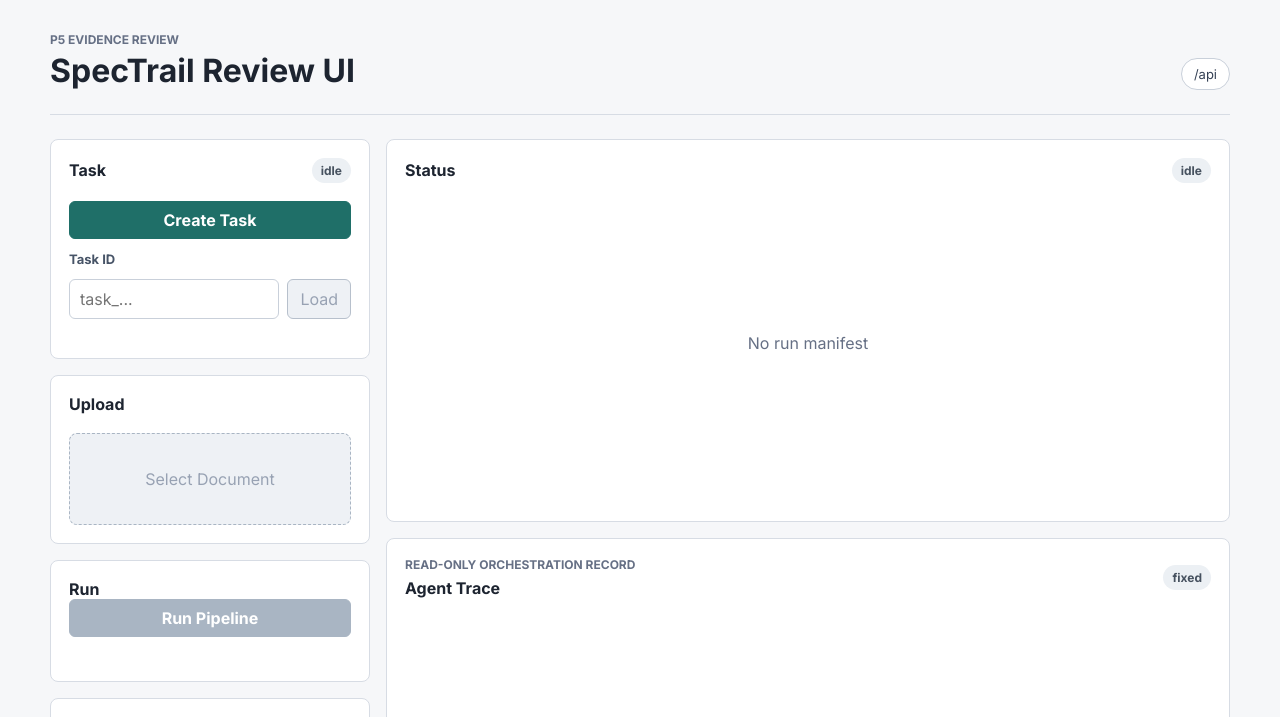
Test: App pipeline run reconciliation › reports a lost run response as a notice when the generation advances with identical Evidence
In the field labelled "Task ID": (174, 299) x1=69 y1=279 x2=279 y2=319, type "task-1"
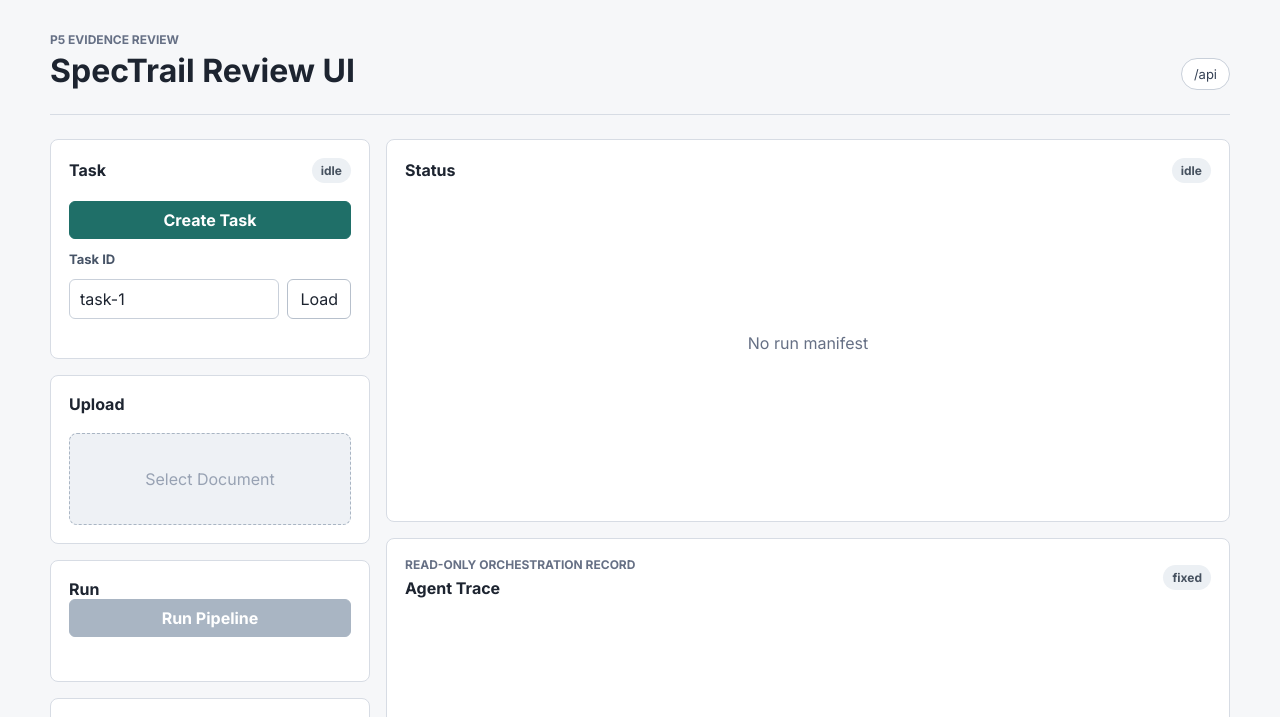
Click the button "Load": (319, 299) x1=287 y1=279 x2=351 y2=319
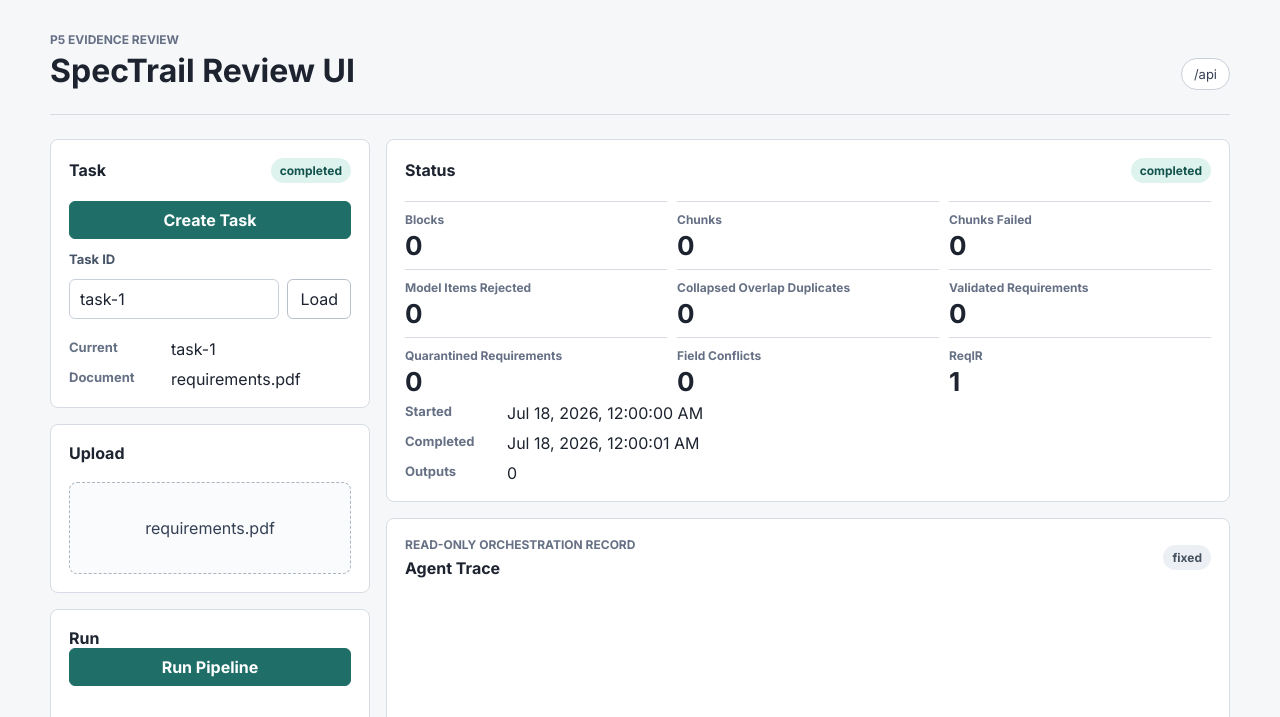
Click the button "Run Pipeline": (210, 667) x1=69 y1=648 x2=351 y2=686
(page scrolled)
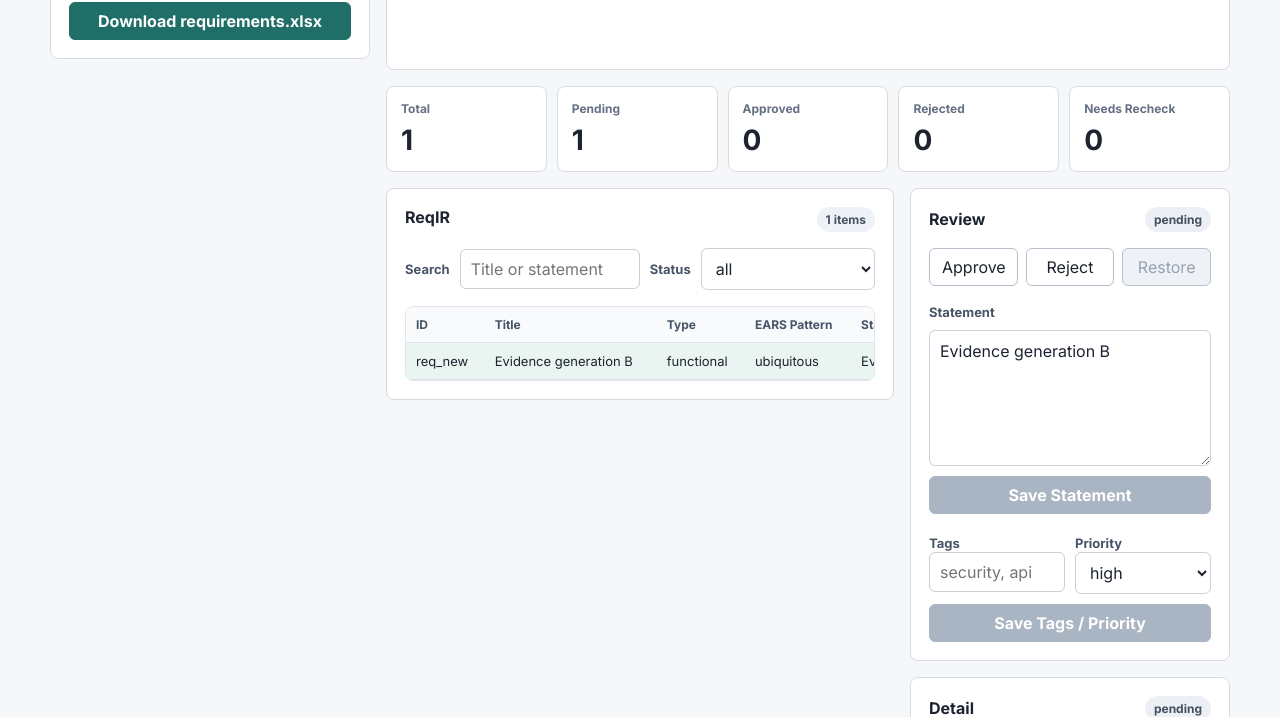
Result: the text "Evidence generation B" is shown at x1=485 y1=342 x2=657 y2=379
